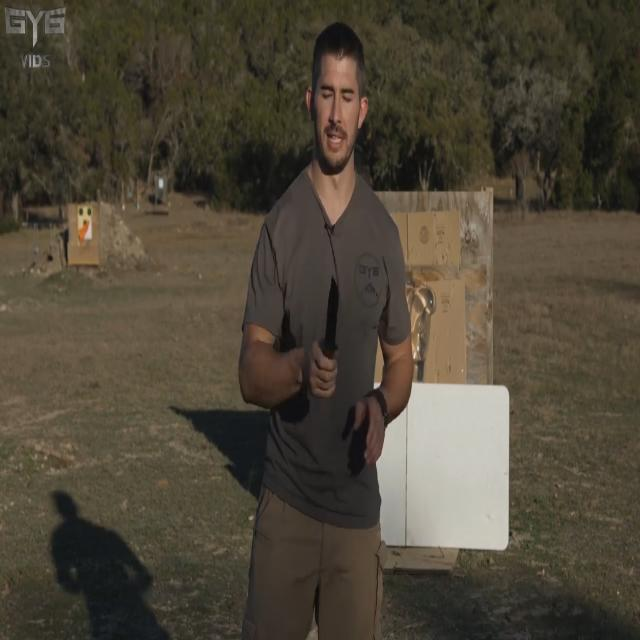knife: (323, 271, 342, 361)
